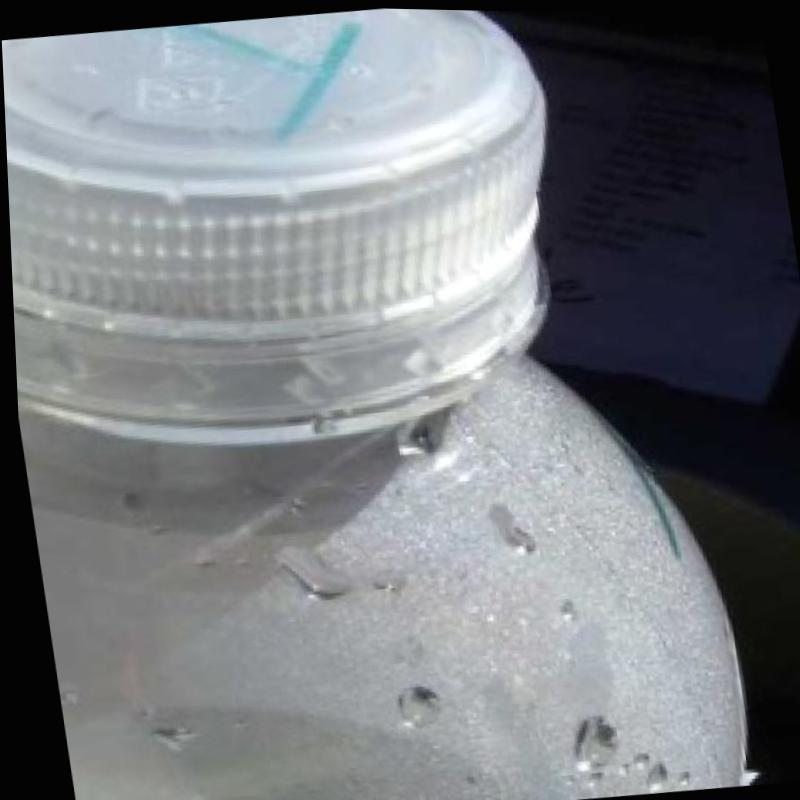botella: (0, 0, 758, 800)
